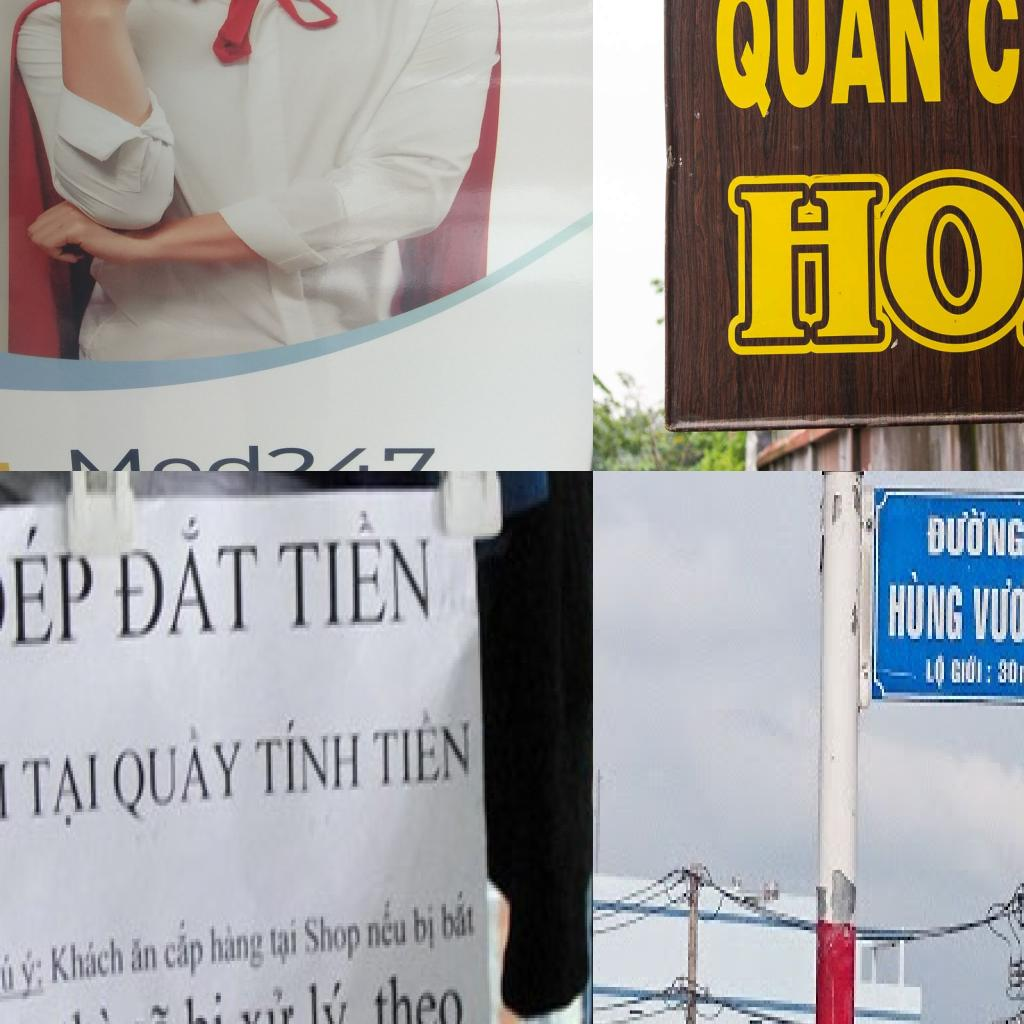text: (715, 0, 942, 119), (270, 508, 444, 647), (109, 511, 266, 650), (112, 714, 250, 834), (0, 507, 102, 663), (58, 438, 450, 471), (250, 710, 369, 806), (368, 704, 478, 800), (18, 742, 109, 841), (886, 568, 968, 646), (368, 964, 473, 1024), (965, 0, 1024, 105), (922, 505, 1024, 565), (48, 929, 130, 993), (300, 904, 366, 970), (970, 572, 1024, 649), (207, 913, 269, 977), (160, 914, 210, 986), (234, 977, 302, 1024), (364, 891, 410, 955), (437, 882, 480, 948), (304, 976, 359, 1024), (181, 983, 234, 1024), (0, 735, 20, 840), (268, 910, 302, 970), (50, 996, 120, 1024), (410, 898, 439, 961), (18, 945, 50, 1002), (128, 932, 162, 980), (122, 995, 177, 1024), (948, 652, 984, 692), (0, 945, 20, 1008), (924, 649, 950, 696)
